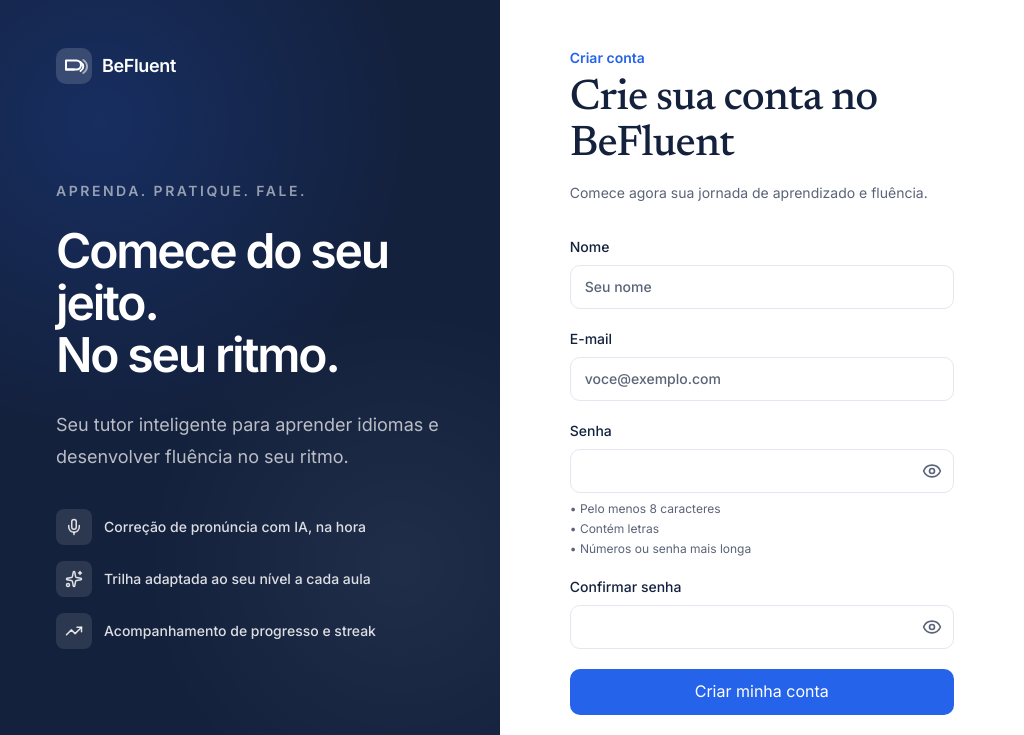
RegisterPage › valida confirmação de senha antes do envio
In the field labelled "Nome": (762, 287) [570,265,954,309], type "Maria"
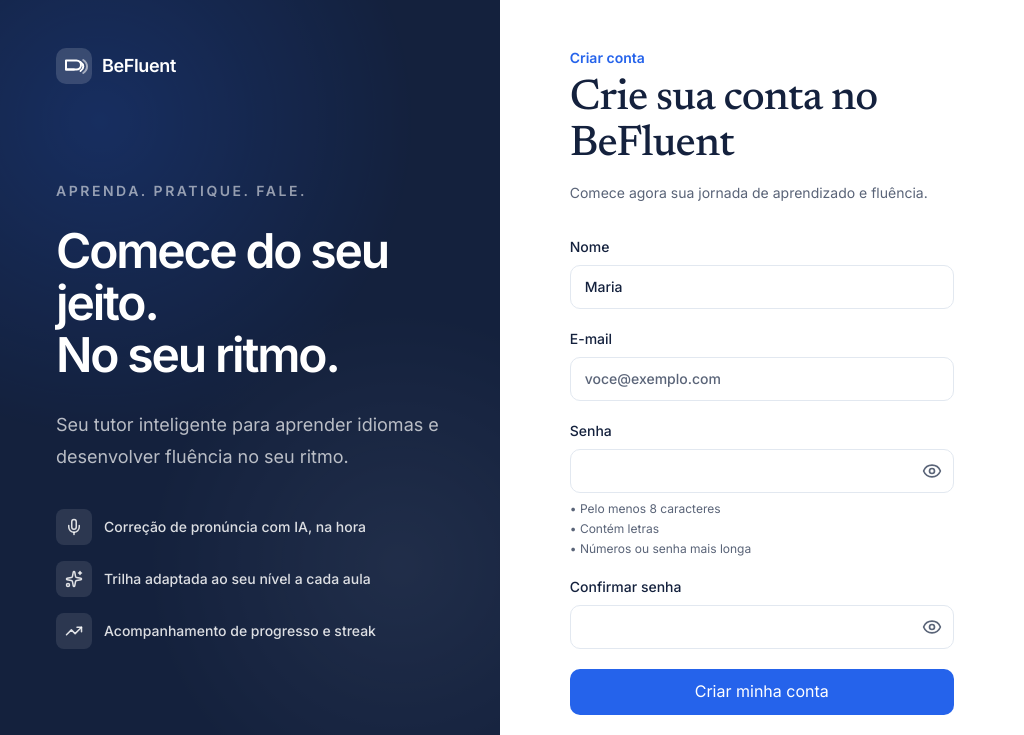
In the field labelled "E-mail": (762, 379) [570,357,954,401], type "maria@exemplo.com"
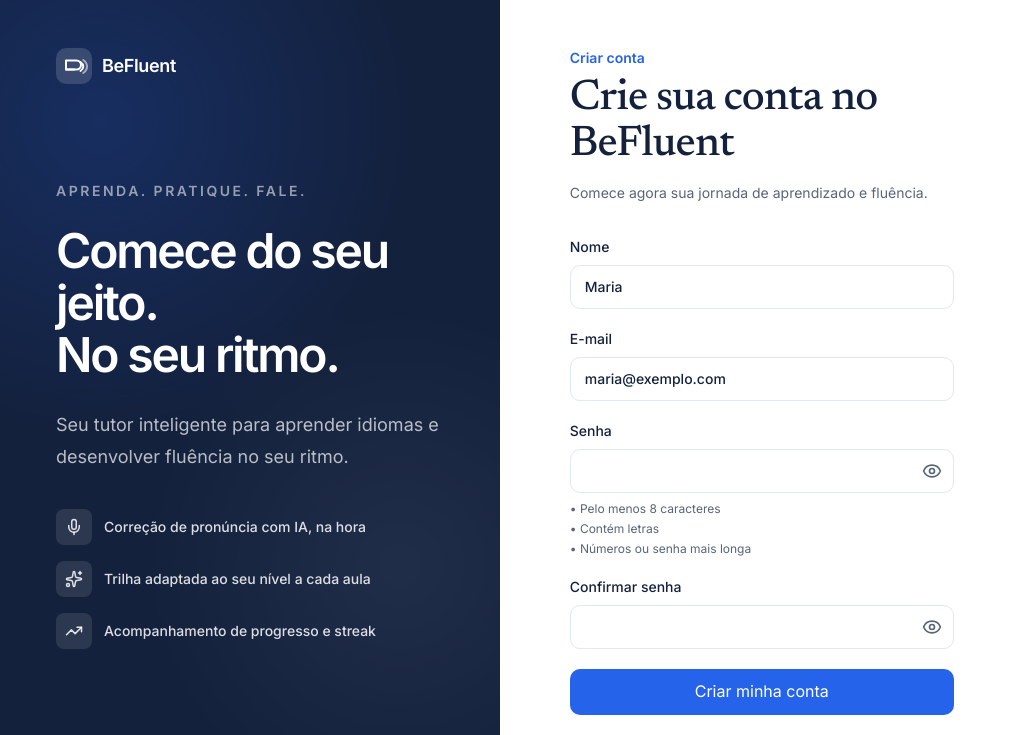
In the password field labelled "Senha": (762, 471) [570,449,954,493], type "senha-forte-1"
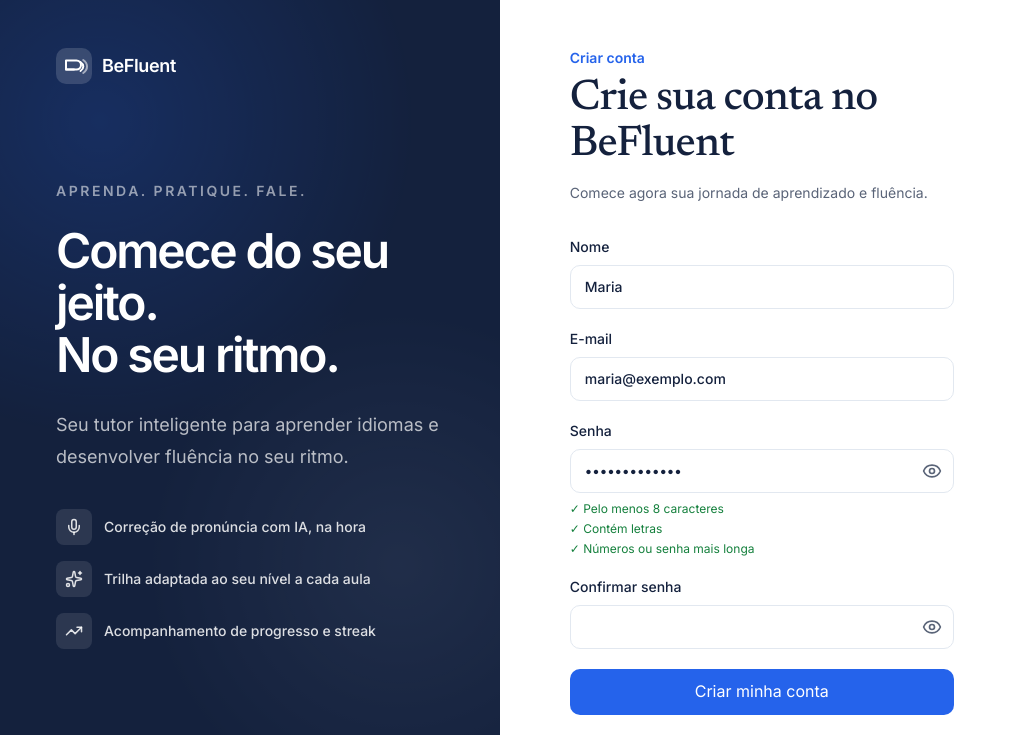
In the password field labelled "Confirmar senha": (762, 627) [570,605,954,649], type "outra-senha"
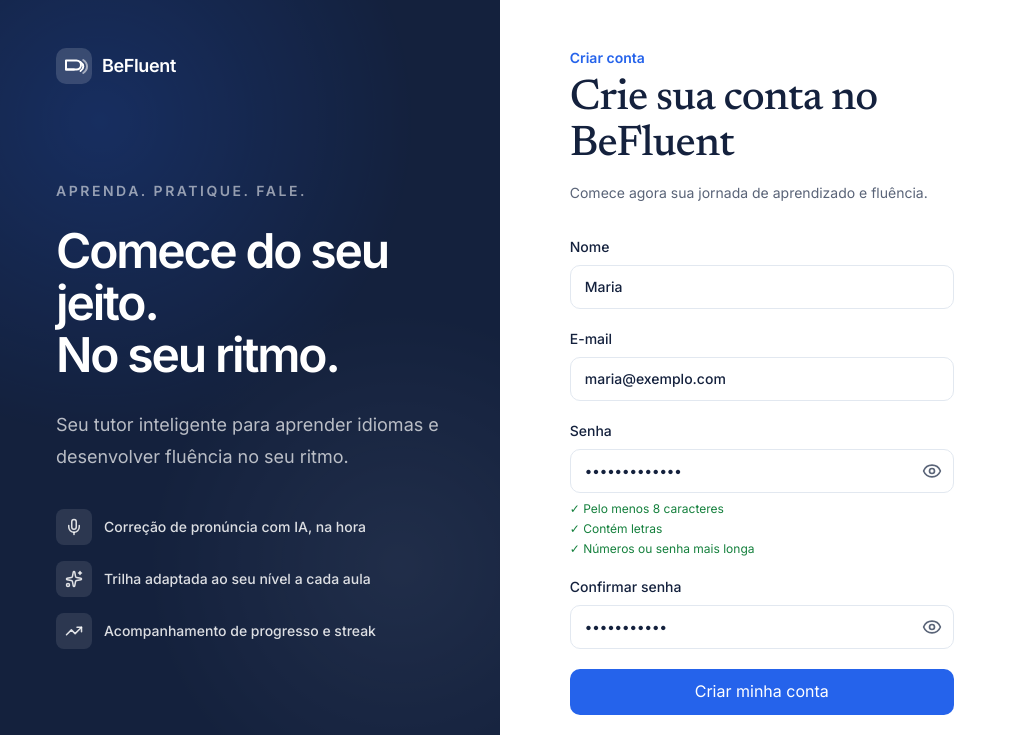
Click the button "Criar minha conta": (762, 692) [570,669,954,714]
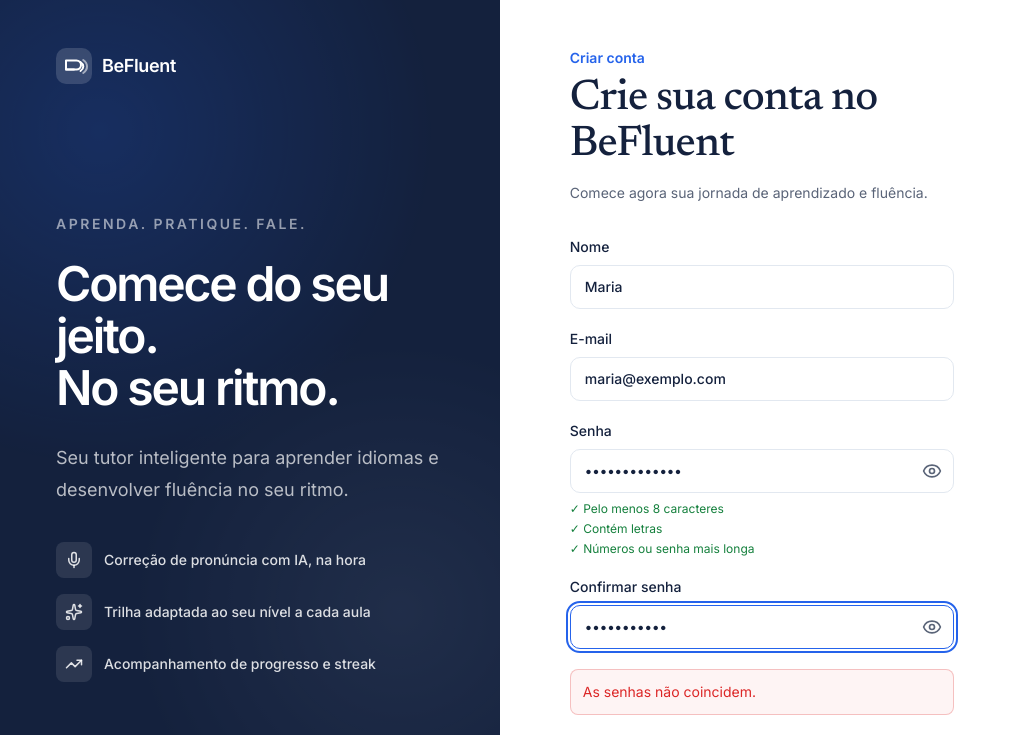
Check: the message reads "As senhas não coincidem.", box [583,683,756,700]
